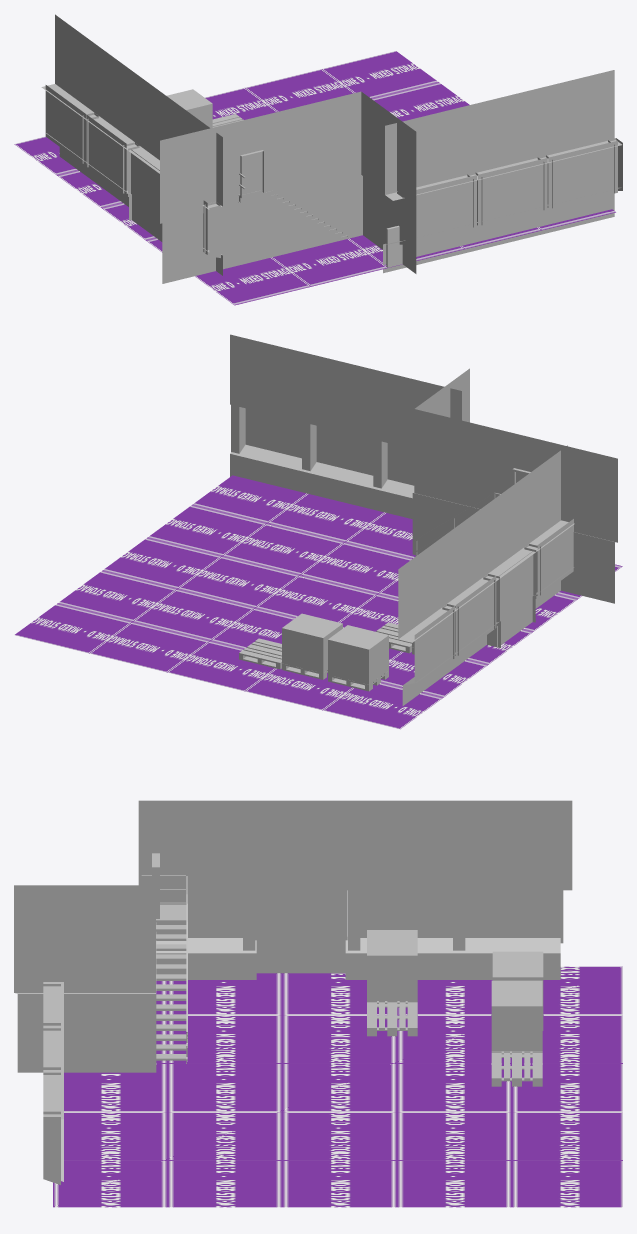
The model's file is mesh_zone_a.dae.
The picture shows the model from 3 angles, top to bottom: view 1: azimuth 30°, elevation 25°; view 2: azimuth 150°, elevation 25°; view 3: azimuth 270°, elevation 25°; orthographic projection. The views are drawn at different scales.
Visible parts, largest first — view 1: WorkCell; view 2: WorkCell; view 3: WorkCell.
Boxes of the visible parts, x1,y1,x2,y2 form: WorkCell: (14, 14, 622, 305); WorkCell: (14, 334, 622, 729); WorkCell: (14, 800, 622, 1207).
Size of the model in its own units: 22.07 by 21.48 by 7.67.
